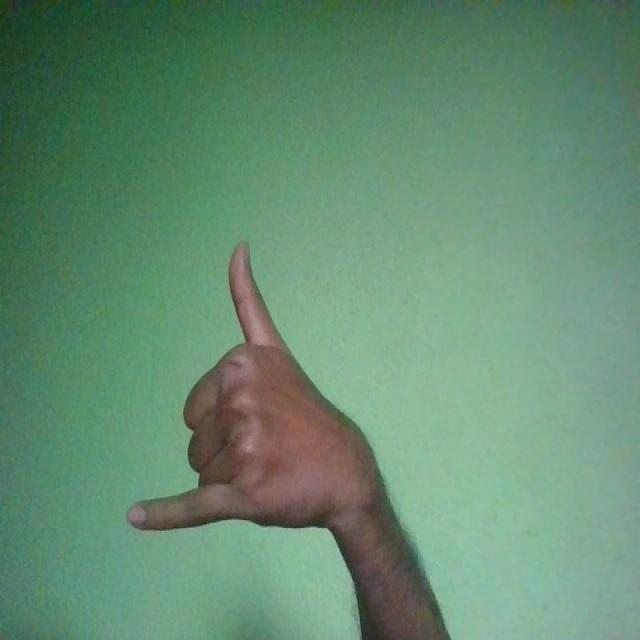Call Me: (124, 240, 388, 533)
